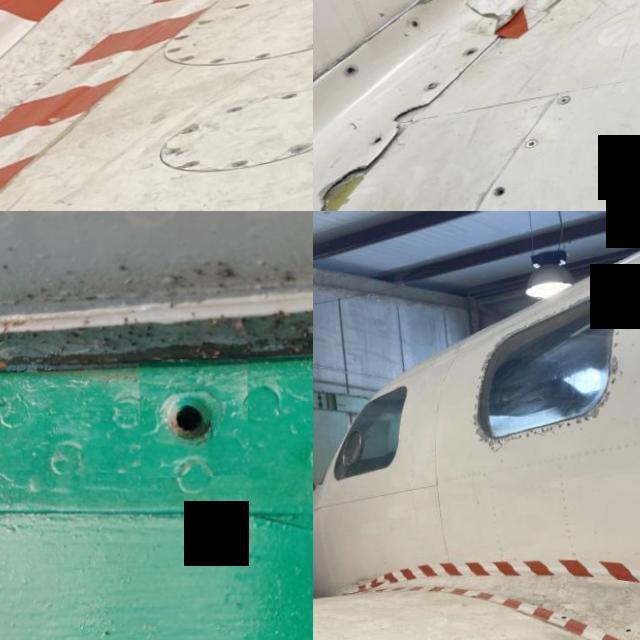Crack: (313, 160, 374, 211), (384, 104, 436, 131), (411, 0, 462, 13)
Missing_Fastener: (138, 360, 248, 481), (343, 65, 360, 79), (458, 48, 477, 59), (490, 188, 507, 200), (406, 20, 420, 32), (370, 135, 384, 147)
